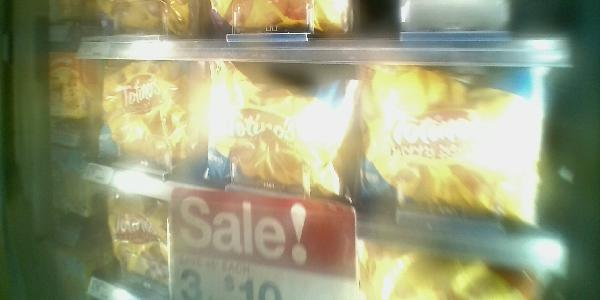icecream: (361, 62, 549, 230), (209, 58, 358, 211), (96, 59, 212, 188)
